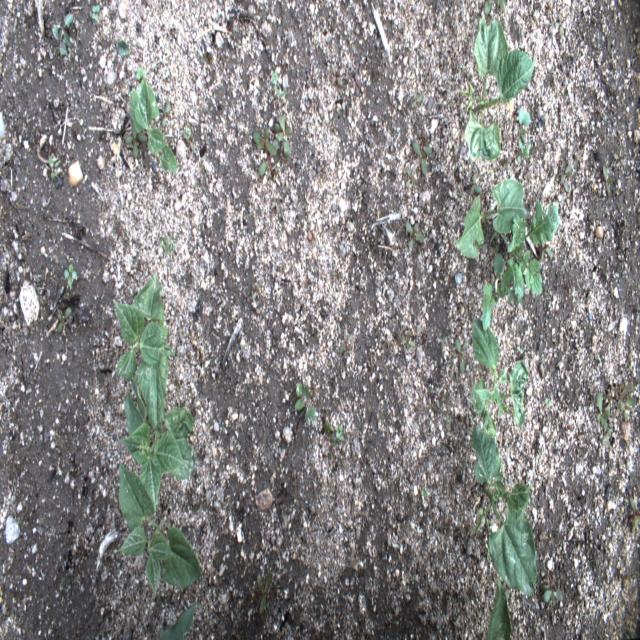crop: (116, 462, 203, 604), (470, 424, 538, 598), (120, 358, 196, 511), (459, 15, 537, 164), (469, 317, 530, 441), (112, 268, 176, 382), (454, 175, 527, 261), (128, 78, 177, 174), (485, 576, 512, 640), (159, 601, 197, 638)
weed: (482, 200, 560, 333), (322, 420, 346, 475), (294, 382, 318, 436), (252, 125, 276, 177), (273, 112, 294, 160), (253, 568, 273, 618), (410, 137, 433, 178), (614, 382, 636, 423), (516, 105, 531, 163), (54, 13, 74, 56), (125, 119, 146, 158), (596, 390, 612, 434), (541, 573, 562, 605), (404, 220, 426, 250), (56, 304, 74, 334), (555, 162, 573, 192), (454, 337, 468, 375), (270, 69, 286, 101), (596, 165, 614, 193), (628, 495, 640, 533), (43, 157, 61, 181), (398, 331, 416, 354), (64, 262, 78, 288), (404, 164, 418, 190), (482, 0, 506, 15), (181, 132, 196, 155), (162, 100, 170, 128), (602, 428, 613, 446), (91, 3, 100, 24)
